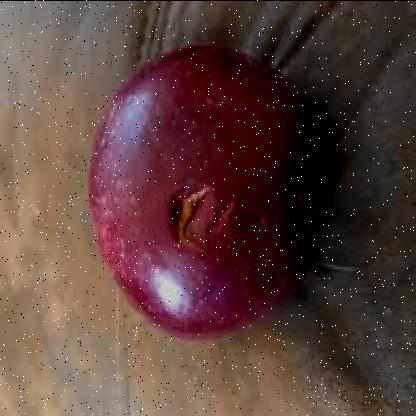damaged_apple: (78, 36, 324, 346)
